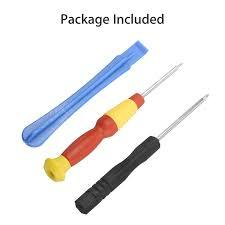screwdriver: (43, 58, 184, 181), (72, 91, 210, 214)
